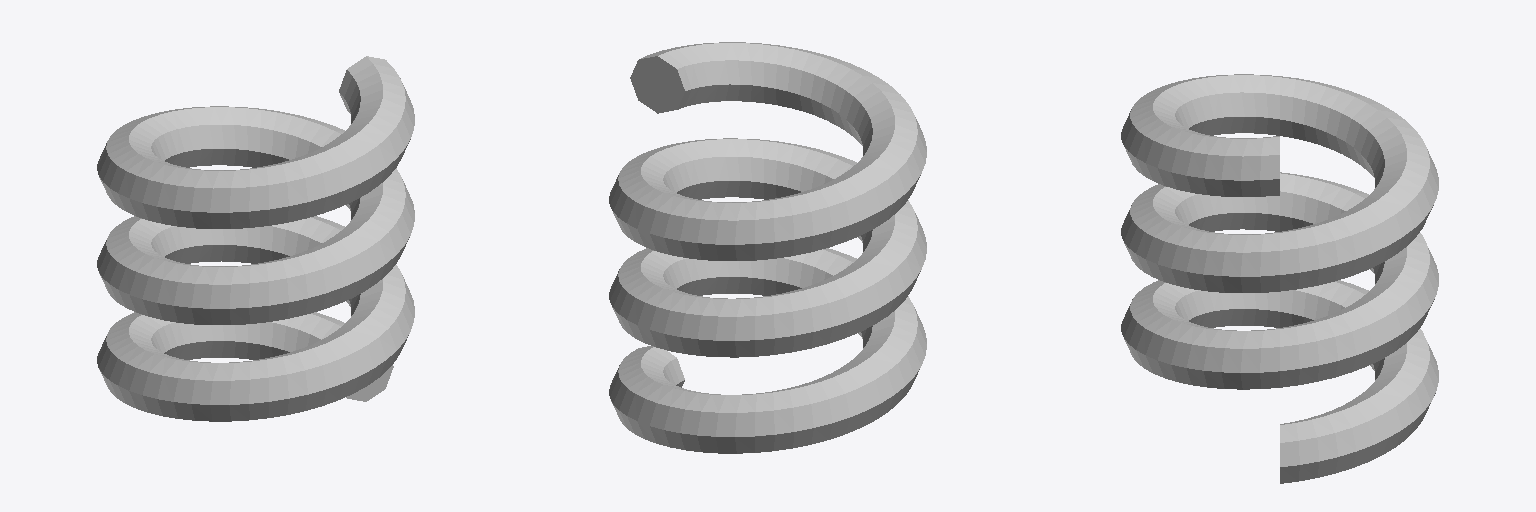
File: helix.obj
The picture shows the model from 3 angles: view 1: azimuth 30°, elevation 25°; view 2: azimuth 150°, elevation 25°; view 3: azimuth 270°, elevation 25°; orthographic projection.
Size of the model in its own units: 2 by 2.4 by 2.